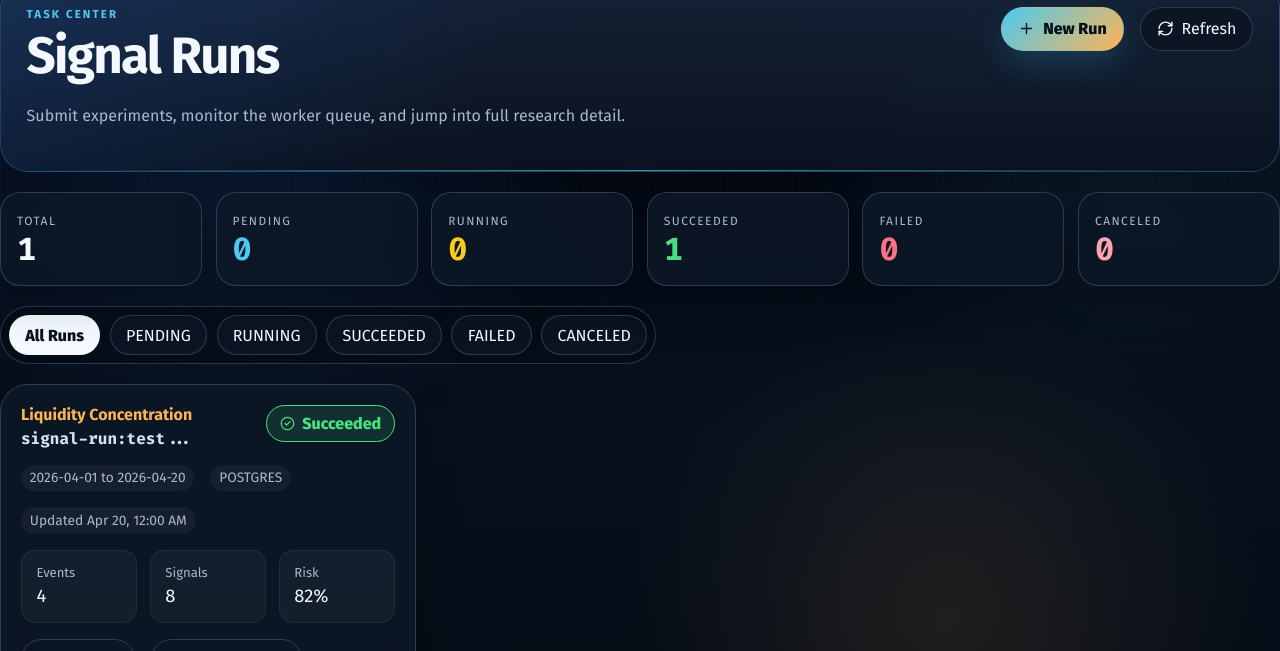
Test: blocks invalid date range before submit
Click the button "New Run" at [1062, 29], box [1001,7,1124,51]
(page scrolled)
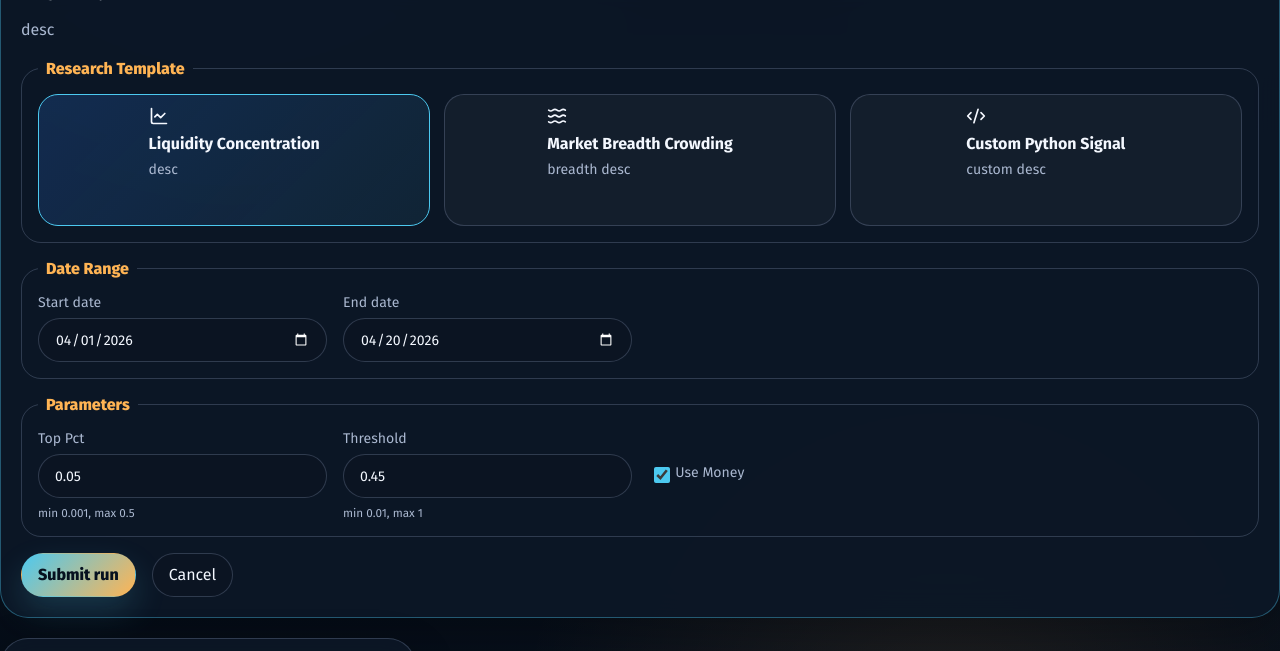
Type "2026-04-21" into the date field labelled "Start date" at [182, 340], box [38,318,327,362]
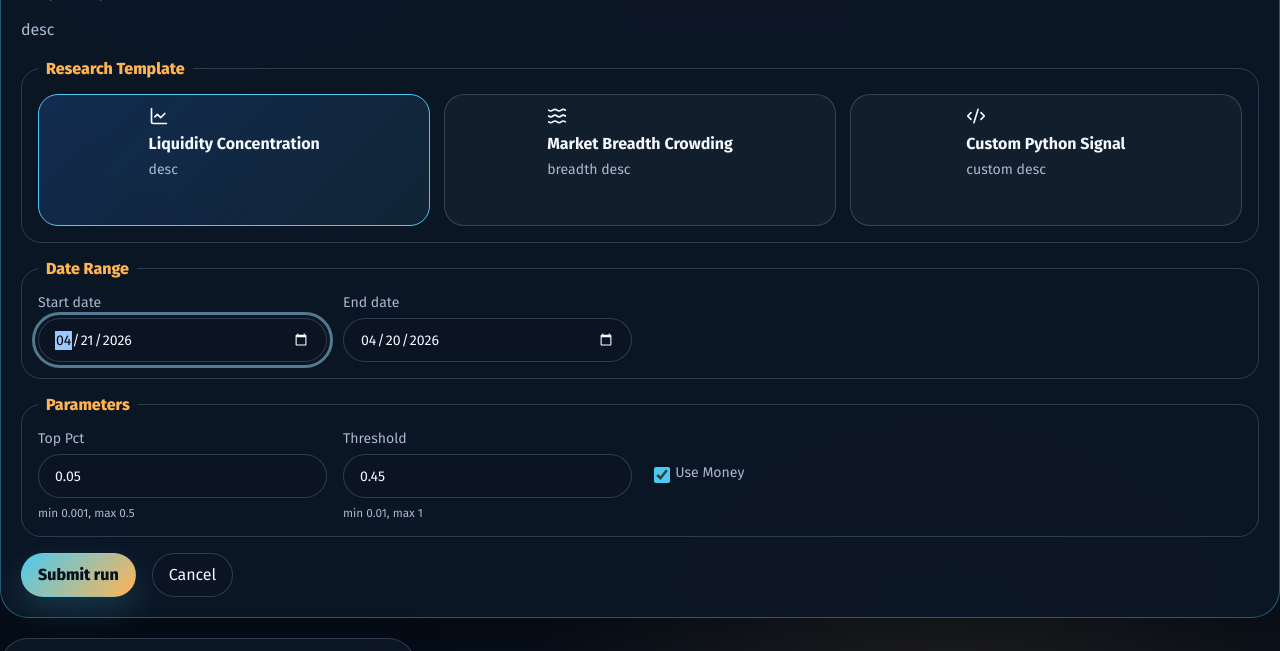
Click the button "Submit run" at [78, 574], box [21,552,136,596]
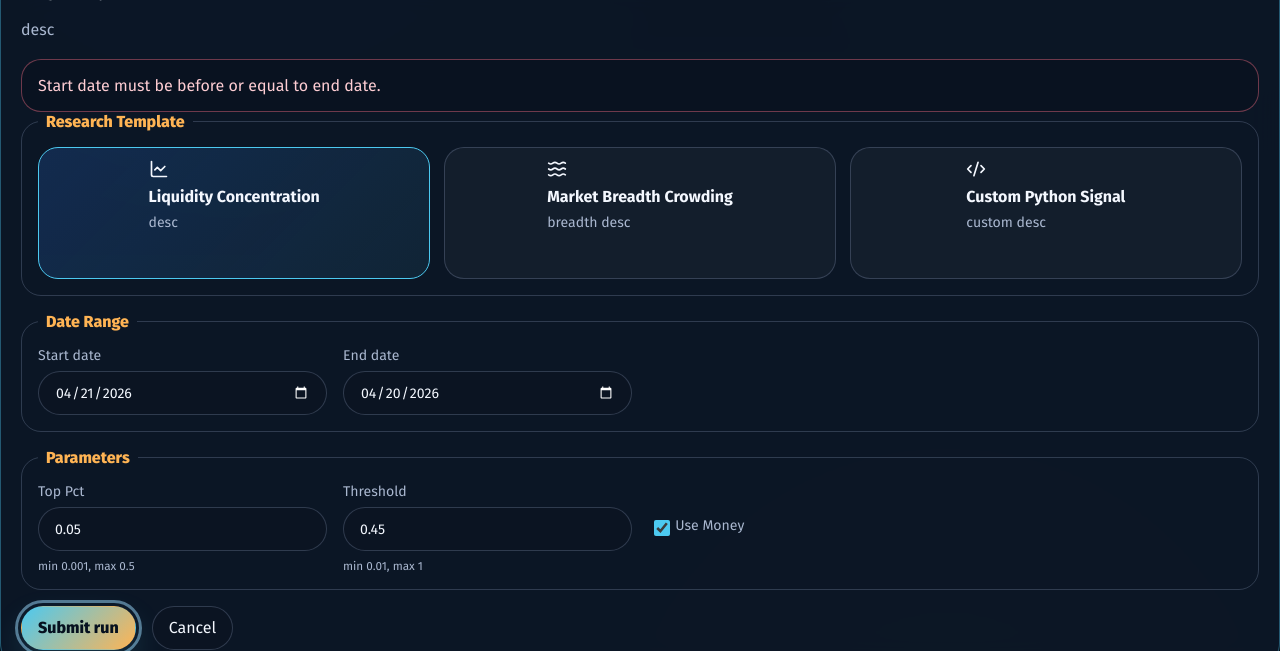
Check: the text "Start date must be before or equal to end date." is shown, box [21,59,1259,112]
